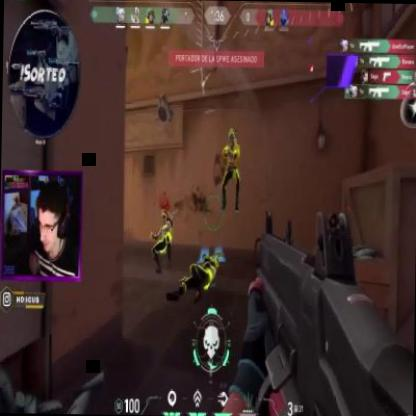enemy: (220, 126, 242, 214)
enemy_head: (228, 128, 236, 144)
